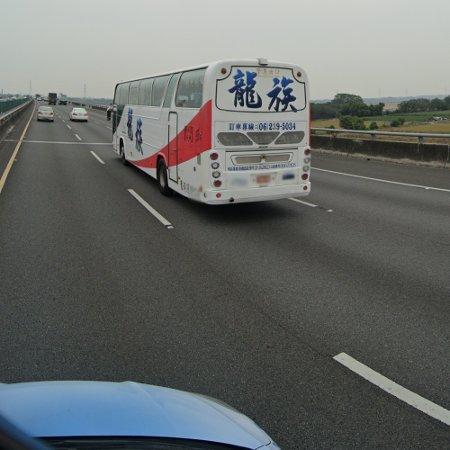buses: (112, 59, 311, 204)
